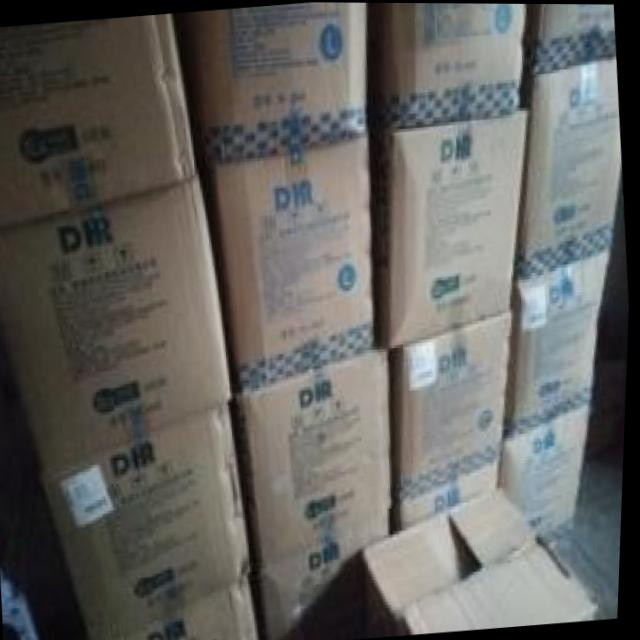box: (0, 171, 237, 480), (47, 398, 256, 640), (0, 13, 196, 233), (215, 136, 377, 392), (367, 484, 602, 633), (386, 106, 529, 347), (241, 348, 397, 567), (193, 2, 367, 164), (517, 55, 622, 276), (397, 311, 513, 498), (507, 248, 614, 443), (381, 2, 526, 132), (263, 508, 394, 640), (507, 398, 597, 547), (129, 574, 264, 640), (401, 458, 501, 530), (532, 3, 616, 74)
